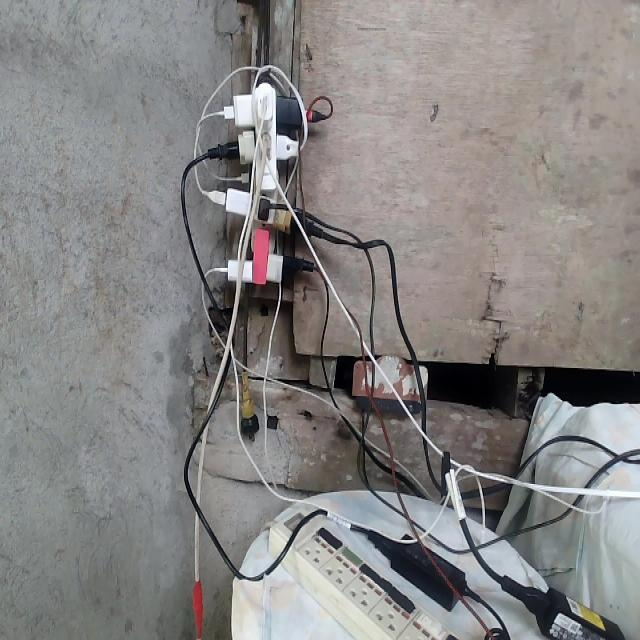-: (211, 58, 312, 286)
